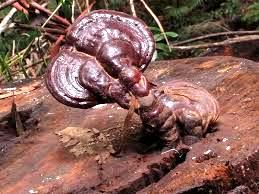Ganoderma - Fruit Body: (46, 7, 152, 106), (155, 80, 221, 137)
